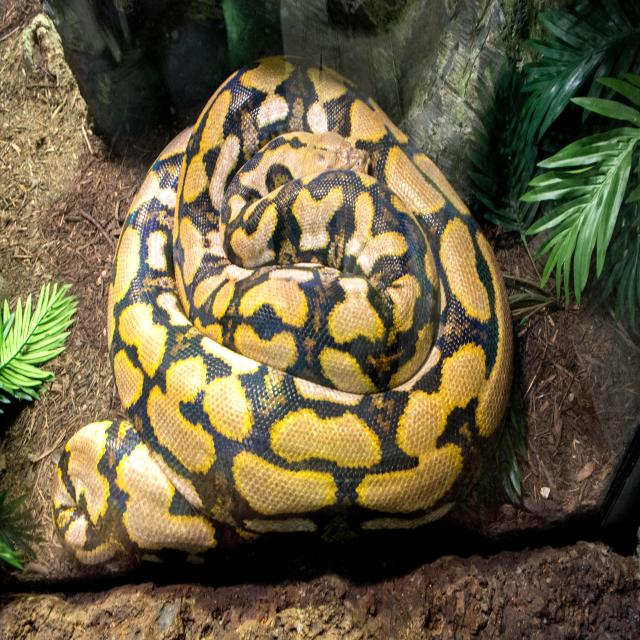Malayopython reticulatus: (53, 58, 512, 562)
snake: (53, 58, 512, 562)
